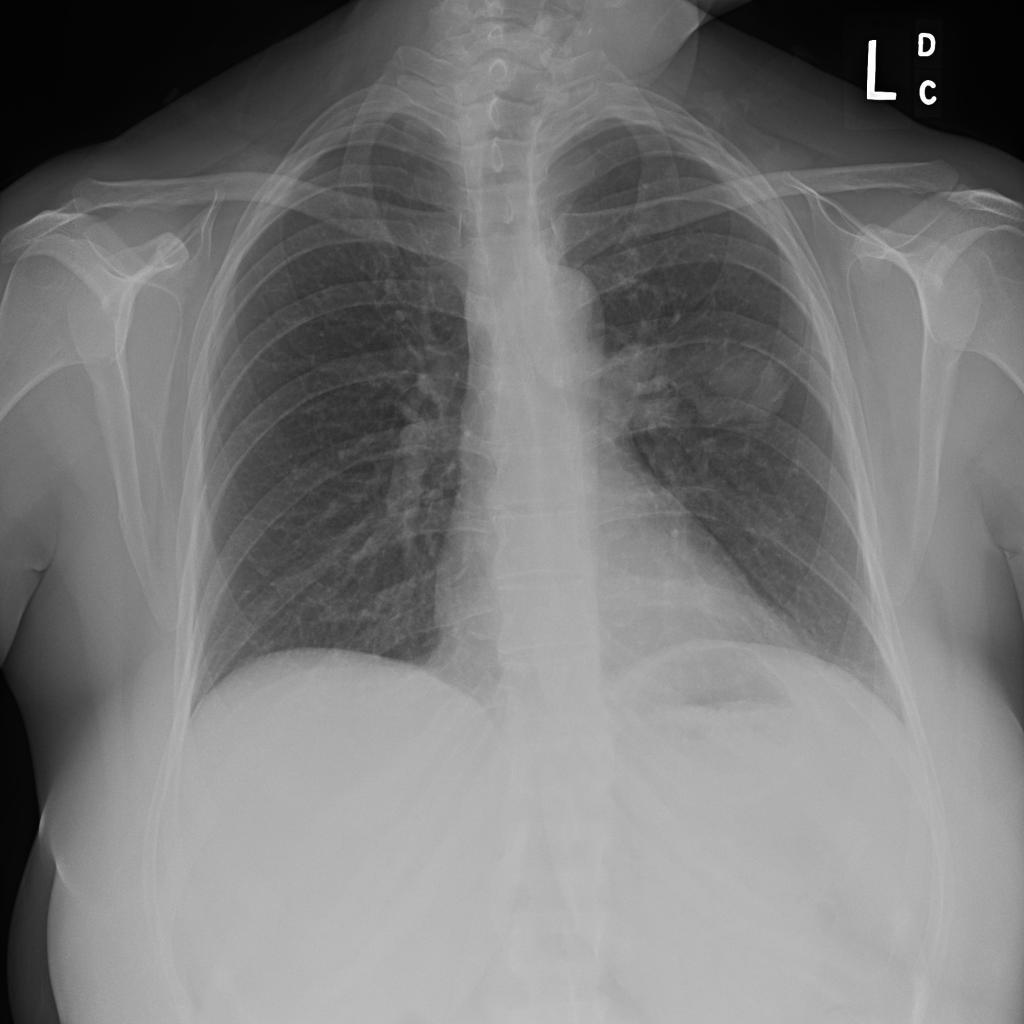Nodule: (357, 174, 402, 217)
